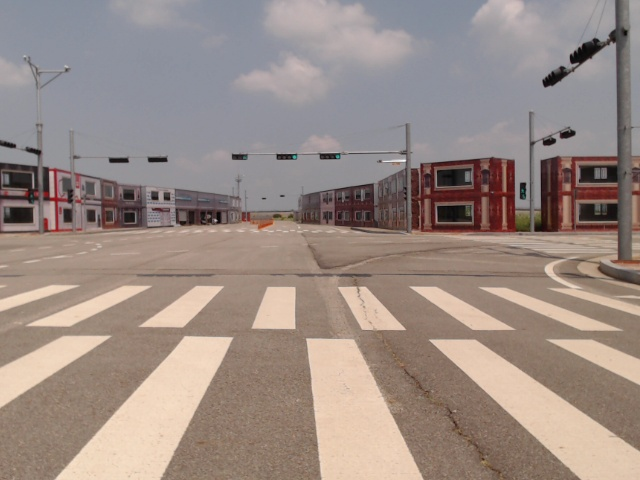straight_green_4: (318, 154, 340, 160), (278, 154, 299, 160)
